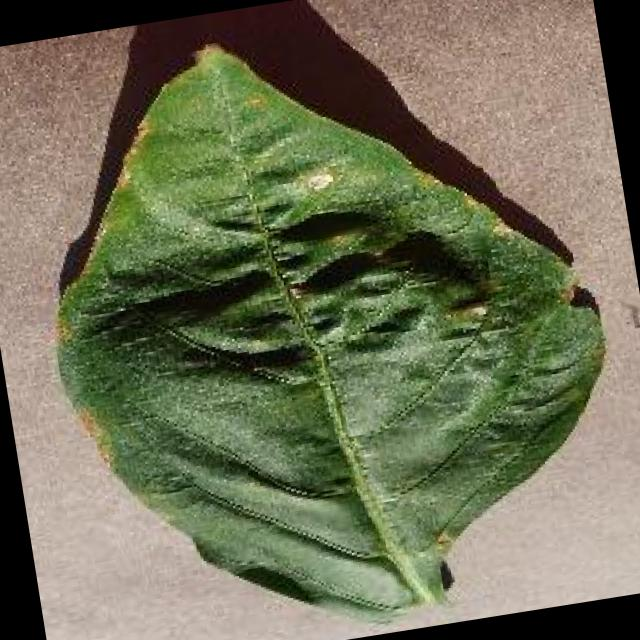Chilli_Bacterial_Spot: (7, 0, 640, 640), (558, 276, 600, 320), (301, 166, 337, 196), (236, 86, 270, 115), (426, 524, 456, 556), (431, 555, 456, 593)
